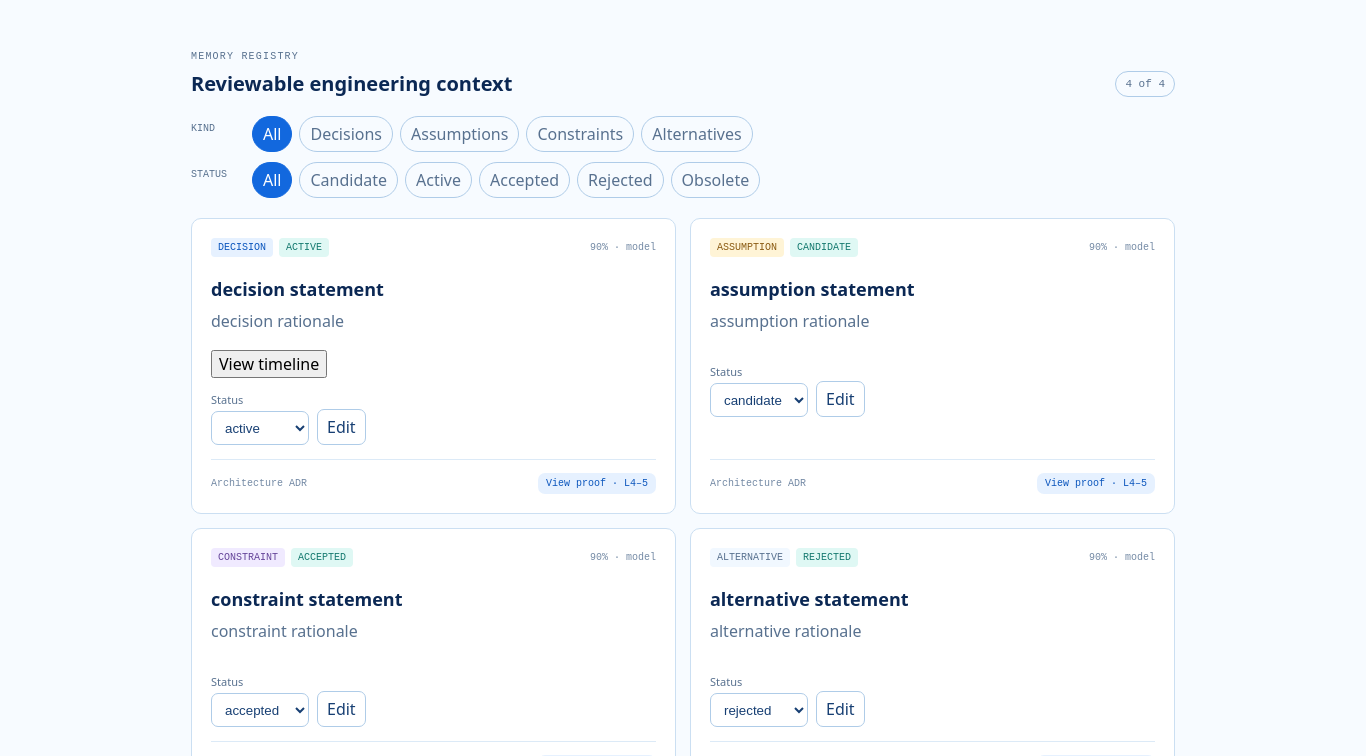
Test case: MemoryView › renders kind badges and filters by every generalized memory kind
The image size is (1366, 756).
Click the button "Assumptions". click: (460, 134)
box: [400,116,519,152]
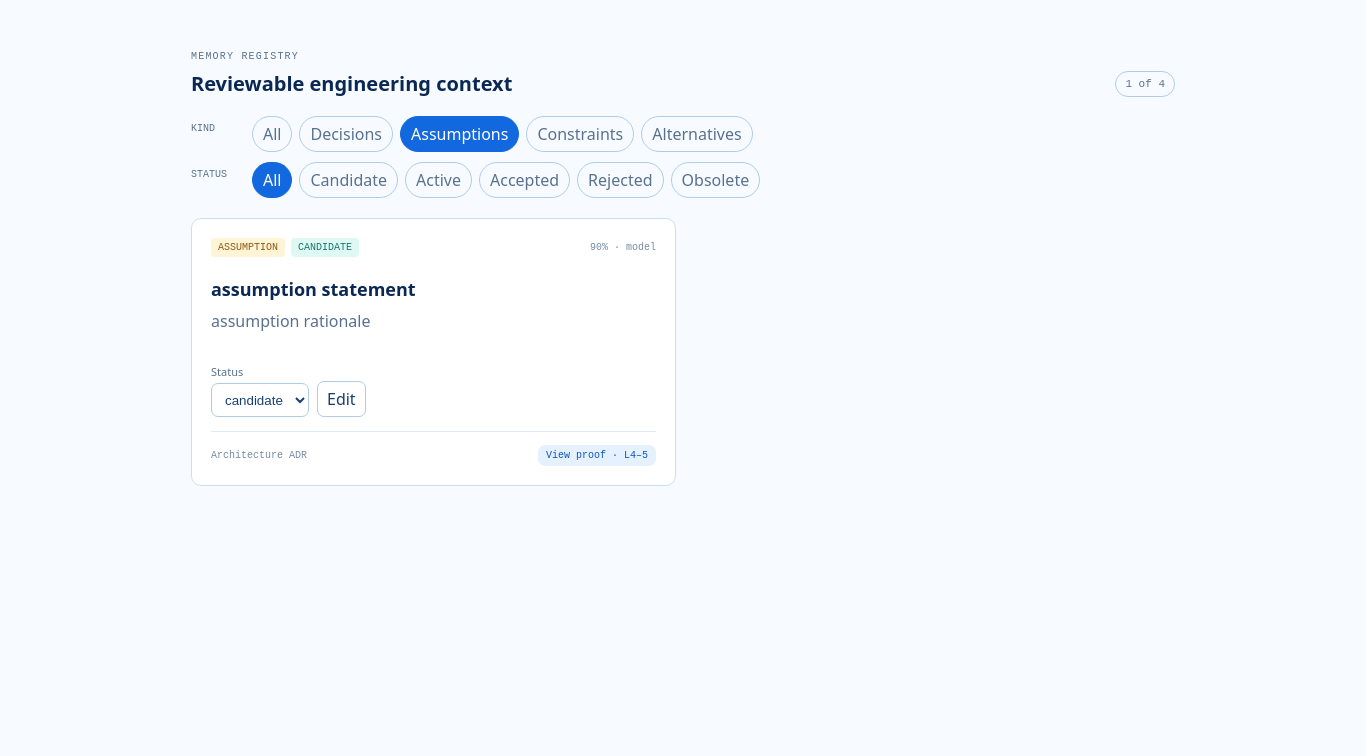
Expected: the heading "decision statement" is gone
Expected: the heading "constraint statement" is gone
Expected: the heading "alternative statement" is gone
